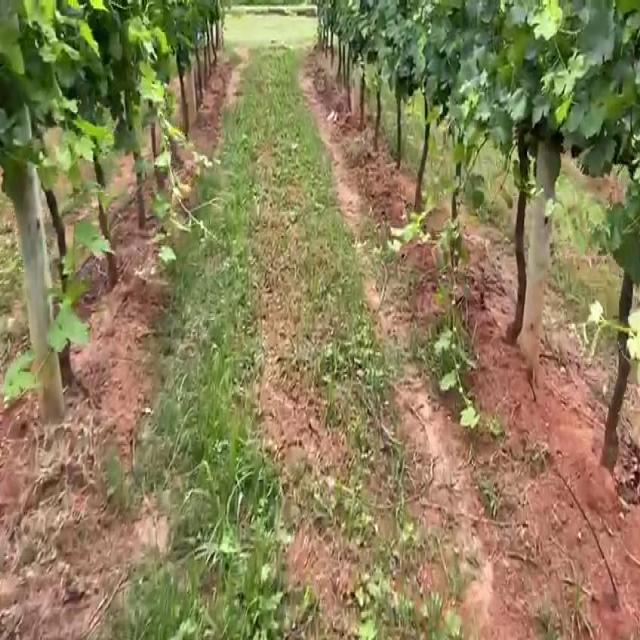tree trunk: (3, 160, 63, 423), (518, 133, 562, 384)
